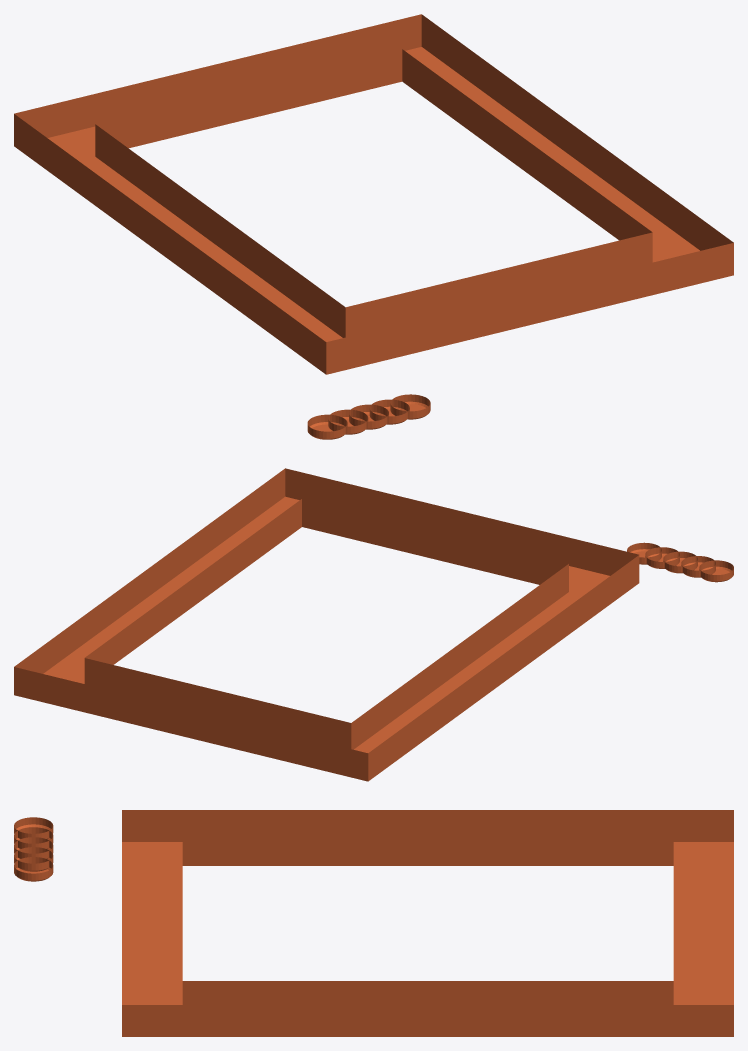
The model's file is 2_door__SVGMat.086.obj.
3 renders of one model, top to bottom at view 1: azimuth 30°, elevation 25°; view 2: azimuth 150°, elevation 25°; view 3: azimuth 270°, elevation 25°, orthographic. The views are drawn at different scales.
Visible parts, largest first — view 1: 2_door__SVGMat.086; view 2: 2_door__SVGMat.086; view 3: 2_door__SVGMat.086.
Part boxes in pixels (x1,y1,x2,y2): 2_door__SVGMat.086: [14, 14, 733, 439]; 2_door__SVGMat.086: [14, 468, 733, 781]; 2_door__SVGMat.086: [14, 810, 733, 1036].
Size of the model in its own units: 0.0723 by 0.00681 by 0.0981.
